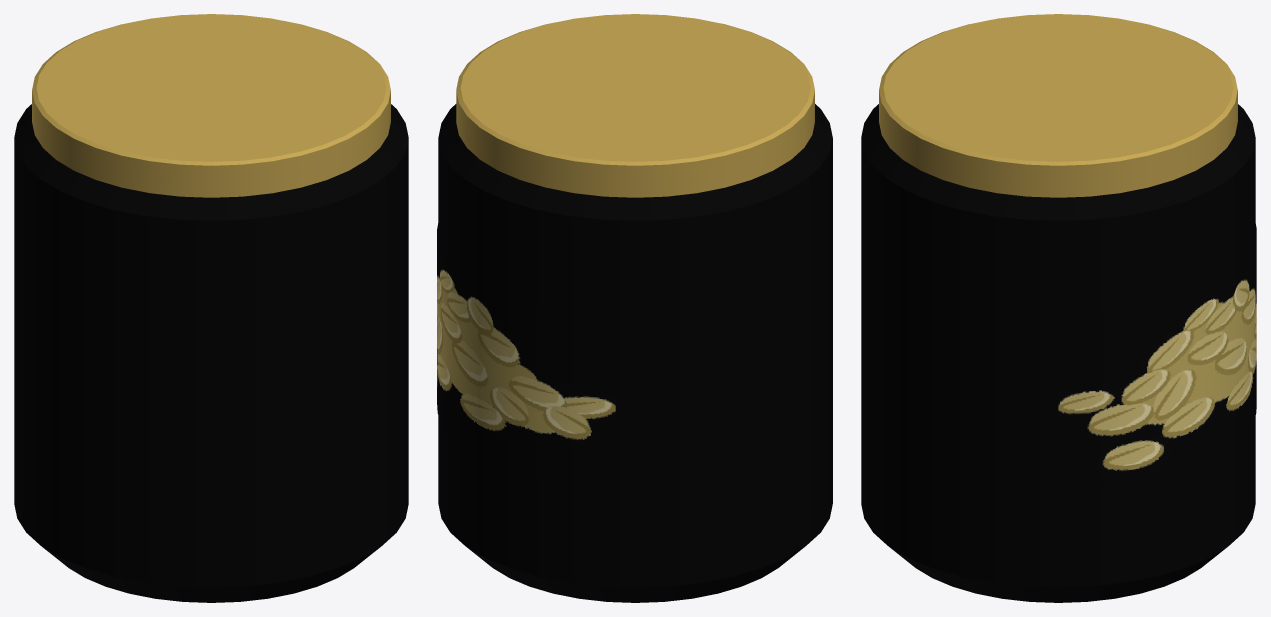
Rendered from oats.obj.
3 renders of one model, left to right at view 1: azimuth 30°, elevation 25°; view 2: azimuth 150°, elevation 25°; view 3: azimuth 270°, elevation 25°, orthographic.
Visible parts, largest first — view 1: Pot, Dop; view 2: Pot, Dop, Plane; view 3: Pot, Dop, Plane.
Boxes of the visible parts, box(x1,y1,x2,y2) form: Pot: box(14, 104, 408, 602); Dop: box(32, 14, 390, 197); Pot: box(438, 104, 832, 602); Dop: box(456, 14, 814, 197); Plane: box(437, 223, 615, 490); Pot: box(861, 104, 1255, 602); Dop: box(879, 14, 1237, 197); Plane: box(1058, 224, 1256, 490).
Size of the model in its own units: 100 by 125 by 100.
